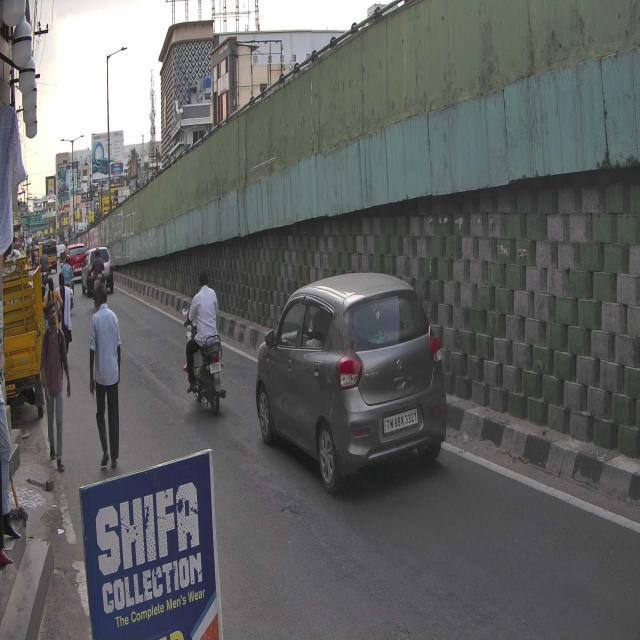single_rider: (181, 267, 228, 417)
